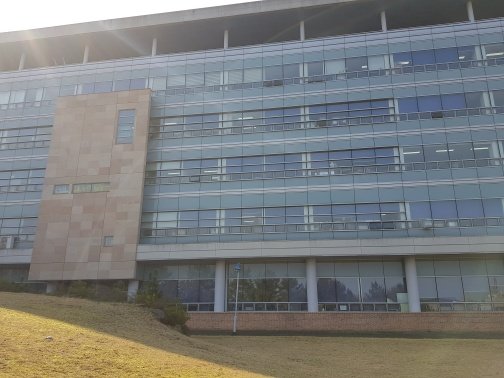Engineering College Building 4: (25, 32, 500, 292), (206, 11, 491, 333), (17, 36, 185, 286)
